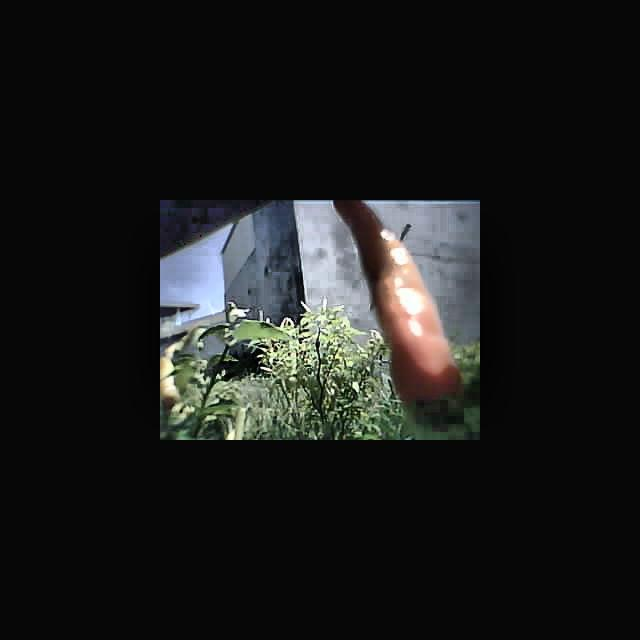Cabai: (339, 201, 475, 425)
